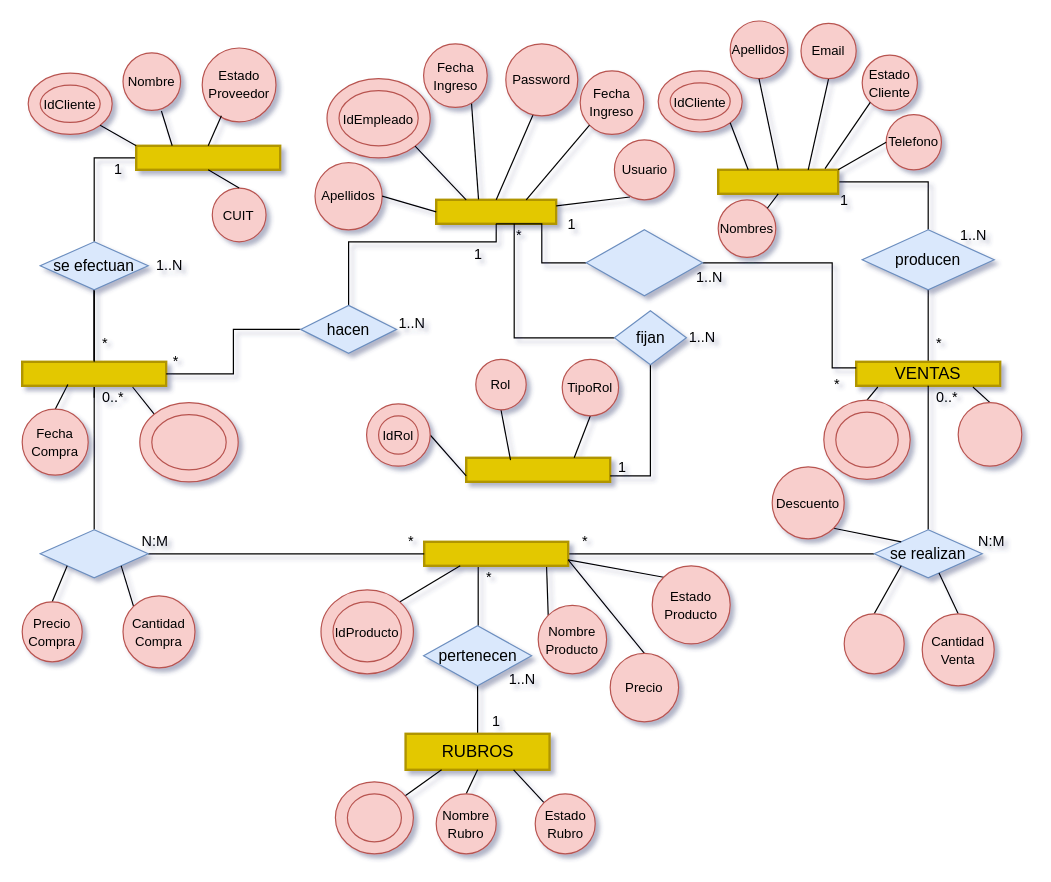
Some shapes in this 1051 by 882 pixel diagram are drawn without their labels. The shapes that lost their labels are listed below. From the top down, each one's centre as x and y in pixels, then its label:
At (207,157): "PROVEEDORES".
At (777,181): "CLIENTES".
At (495,211): "EMPLEADOS".
At (644,262): "ejecuta".
At (93,373): "COMPRAS".
At (188,441): "IdCompra".
At (866,439): "IdVenta".
At (989,433): "Fecha Venta".
At (537,469): "ROLES".
At (93,553): "contienen".
At (495,553): "PRODUCTOS".
At (873,643): "Precio Venta".
At (373,817): "IdRubro".
